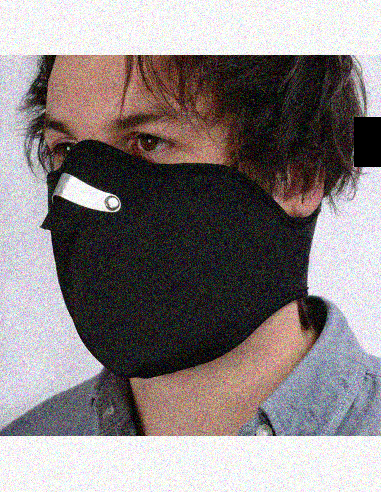with_mask: (41, 100, 282, 382)
